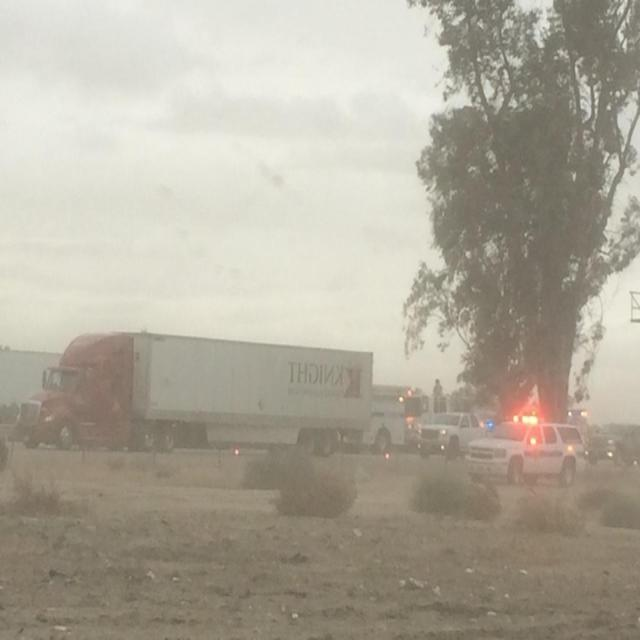Car: (419, 408, 486, 455)
Truck: (34, 327, 378, 456)
